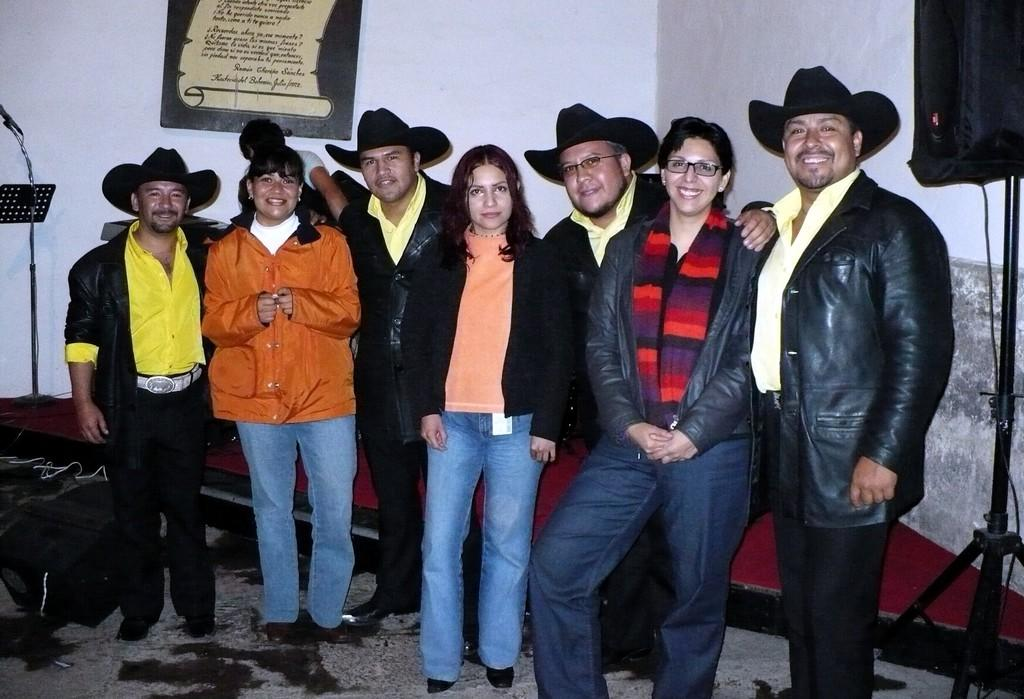Hat: (745, 65, 899, 156), (518, 102, 660, 185), (324, 103, 452, 170), (101, 143, 217, 214)
